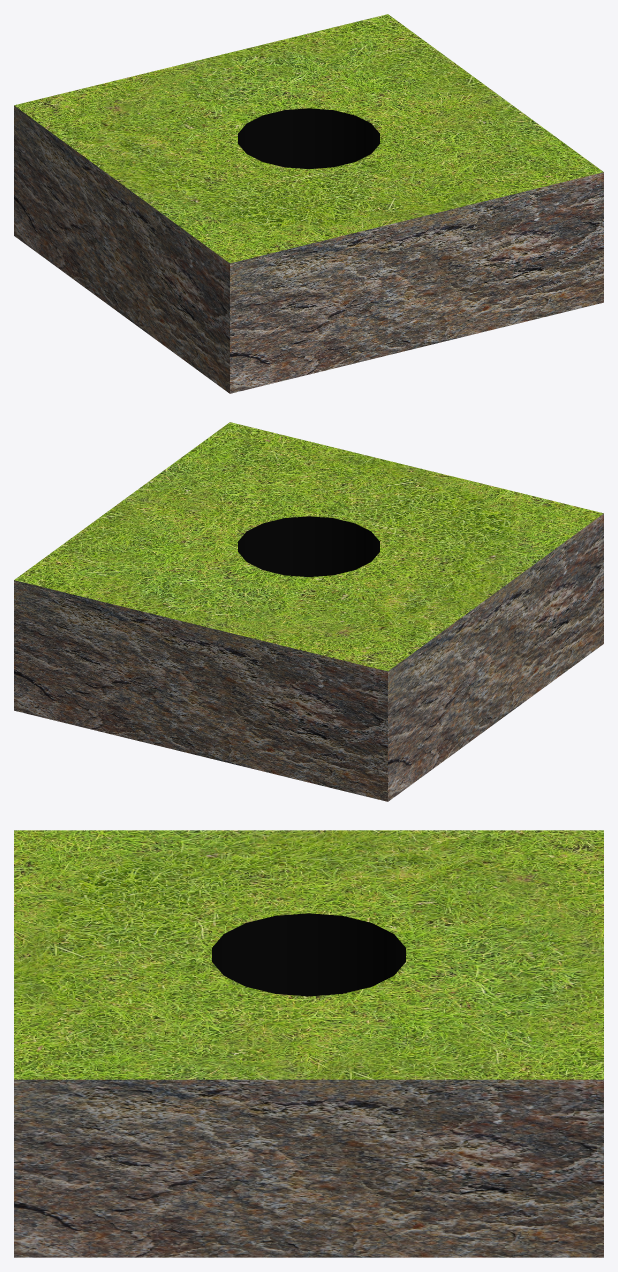
The model's file is Hole_In_The_Ground.FBX.
The picture shows the model from 3 angles, top to bottom: view 1: azimuth 30°, elevation 25°; view 2: azimuth 150°, elevation 25°; view 3: azimuth 270°, elevation 25°; orthographic projection. The views are drawn at different scales.
Visible parts, largest first — view 1: Hole_In_The_Ground; view 2: Hole_In_The_Ground; view 3: Hole_In_The_Ground.
Boxes of the visible parts, box(x1,y1,x2,y2) form: Hole_In_The_Ground: box(14, 14, 603, 393); Hole_In_The_Ground: box(14, 422, 603, 801); Hole_In_The_Ground: box(14, 830, 603, 1257).
Bounding box in the file's own units: 118 × 39.37 × 118.
3 materials, 2 textured.
